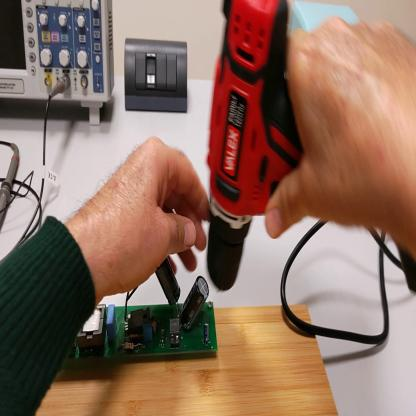electric screwdriver: (209, 1, 416, 298)
hand: (259, 17, 409, 248), (92, 135, 211, 297)
high voltage board: (63, 258, 219, 359)
oscilloscope: (2, 1, 118, 128)
oscilloscope probe tip: (2, 146, 21, 231)
welder station: (288, 4, 362, 37)
working area: (33, 304, 340, 416)
